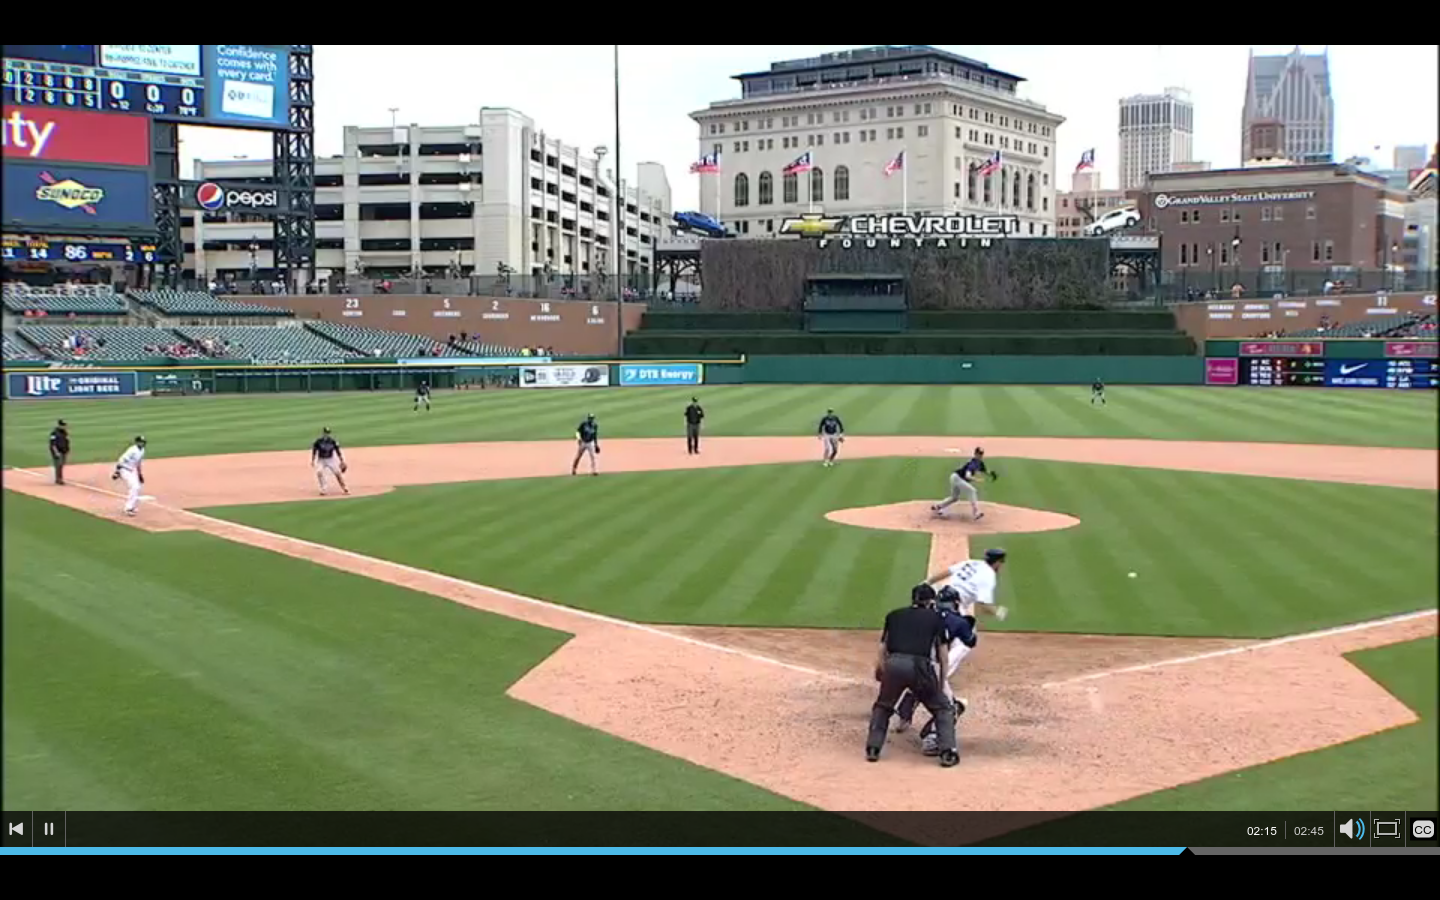baseball: (1124, 569, 1142, 583)
baseball player: (936, 543, 1018, 685), (933, 443, 1004, 531), (112, 428, 153, 525), (310, 425, 353, 511), (568, 406, 608, 483), (815, 403, 850, 469), (1085, 372, 1108, 412), (407, 379, 432, 414)
referee: (862, 582, 962, 768), (47, 414, 76, 492), (681, 391, 705, 463)
